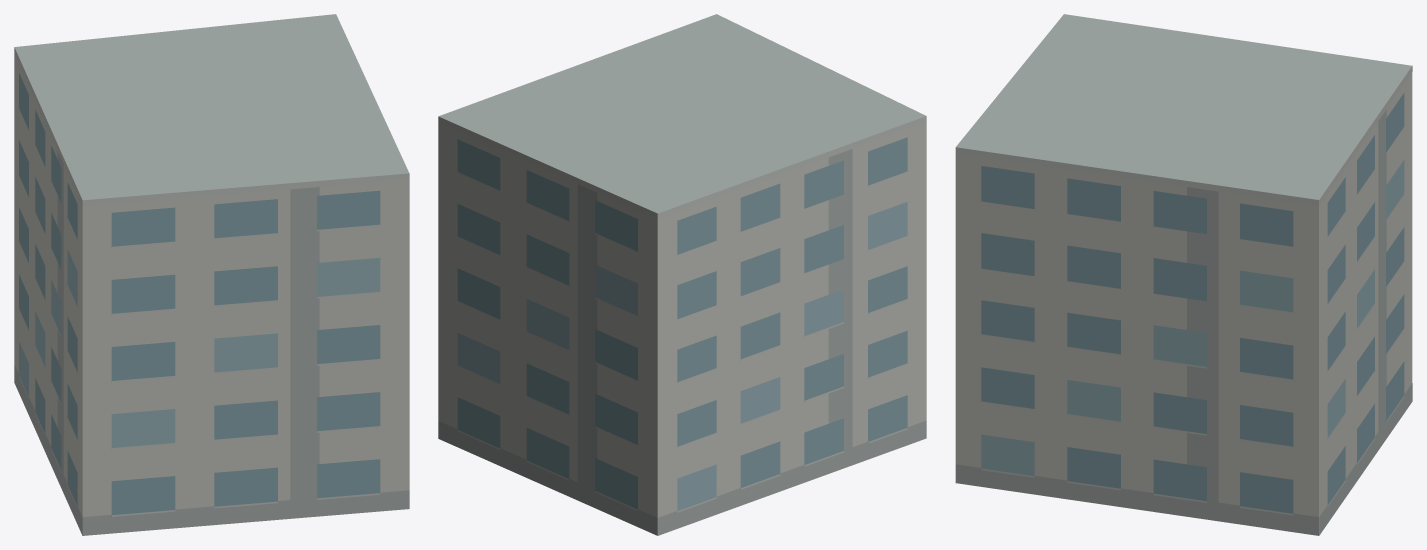
File: survey-upis-33018399.glb
The picture shows the model from 3 angles, left to right: view 1: azimuth 30°, elevation 25°; view 2: azimuth 150°, elevation 25°; view 3: azimuth 270°, elevation 25°; orthographic projection. The views are drawn at different scales.
Visible parts, largest first — view 1: survey-upis-33018399.tmp; view 2: survey-upis-33018399.tmp; view 3: survey-upis-33018399.tmp.
Boxes of the visible parts, box(x1,y1,x2,y2) form: survey-upis-33018399.tmp: box(14, 14, 409, 535); survey-upis-33018399.tmp: box(438, 14, 926, 535); survey-upis-33018399.tmp: box(955, 14, 1412, 535).
Bounding box in the file's own units: 15.69 × 13.2 × 16.28.
